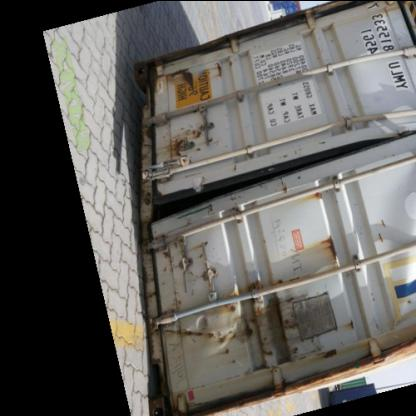Damage: (153, 154, 333, 228), (163, 286, 304, 359), (152, 242, 228, 275), (161, 116, 223, 156), (166, 58, 233, 92), (322, 228, 349, 268)
